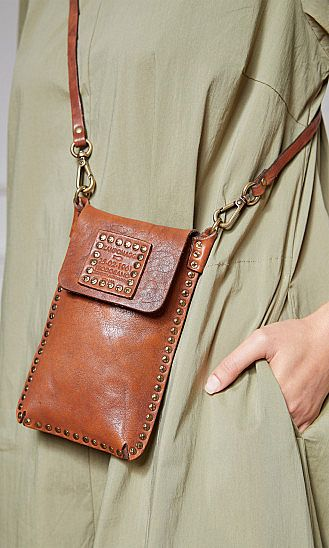cuero: (15, 2, 322, 463)
